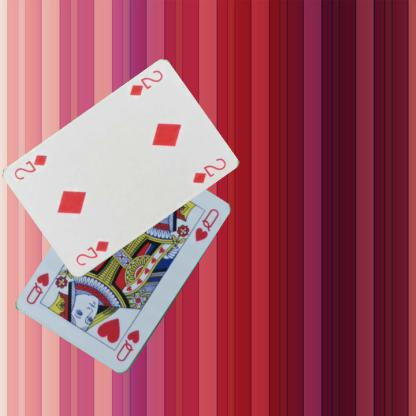2d: (127, 67, 164, 98), (73, 238, 110, 268)
Qh: (113, 327, 142, 363)
